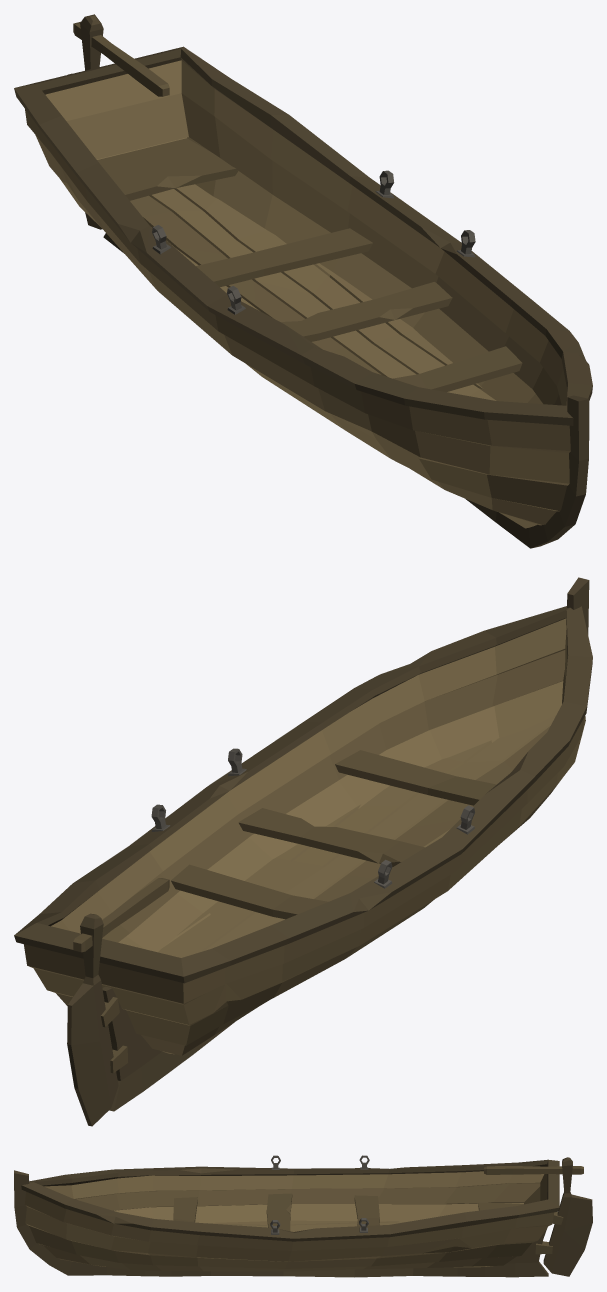
File: BoatLarge_1.fbx
3 renders of one model, top to bottom at view 1: azimuth 30°, elevation 25°; view 2: azimuth 150°, elevation 25°; view 3: azimuth 270°, elevation 25°, orthographic. The views are drawn at different scales.
Parts seen in each view (by area): view 1: BoatLarge_1, BoatLarge_1_Rudder; view 2: BoatLarge_1, BoatLarge_1_Rudder; view 3: BoatLarge_1, BoatLarge_1_Rudder.
Part boxes in pixels (x1,y1,x2,y2): BoatLarge_1: (14,46,592,548); BoatLarge_1_Rudder: (68,14,169,229); BoatLarge_1: (14,577,592,1111); BoatLarge_1_Rudder: (67,878,169,1126); BoatLarge_1: (14,1155,563,1277); BoatLarge_1_Rudder: (484,1157,592,1276).
Size of the model in its own units: 187 by 147 by 651.
